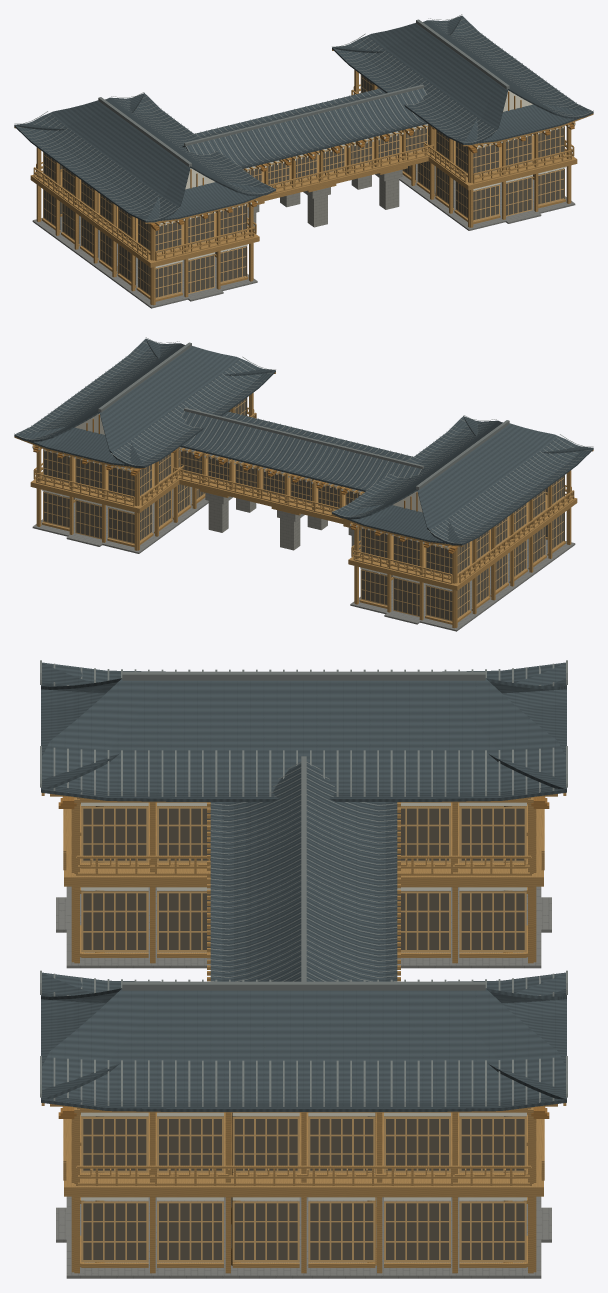
3 renders of one model, top to bottom at view 1: azimuth 30°, elevation 25°; view 2: azimuth 150°, elevation 25°; view 3: azimuth 270°, elevation 25°, orthographic. The views are drawn at different scales.
Parts seen in each view (by area): view 1: gate__roof, gate__doors, gate__rooftile, gate__lattice, gate__structure, gate__gallery, gate__railing, gate__base, gate__piers, gate__brackets, gate__gable-infill, gate__rafters (+2 smaller); view 2: gate__roof, gate__doors, gate__rooftile, gate__lattice, gate__structure, gate__gallery, gate__railing, gate__base, gate__piers, gate__brackets, gate__gable-infill, gate__rafters (+2 smaller); view 3: gate__roof, gate__doors, gate__lattice, gate__rooftile, gate__structure, gate__gallery, gate__base, gate__railing, gate__plaster, gate__rafters, gate__brackets.
Boxes of the visible parts, x1,y1,x2,y2 form: gate__roof: (14,15,593,222); gate__doors: (43,75,564,297); gate__rooftile: (14,14,593,220); gate__lattice: (43,74,564,298); gate__structure: (36,70,571,305); gate__gallery: (30,130,577,267); gate__railing: (33,84,574,260); gate__base: (32,164,575,308); gate__piers: (247,169,402,230); gate__brackets: (150,122,575,230); gate__gable-infill: (185,90,532,189); gate__rafters: (155,122,575,226); gate__roof: (14,338,593,545); gate__doors: (43,398,564,620); gate__rooftile: (14,337,593,543); gate__lattice: (43,397,564,621); gate__structure: (36,393,571,628); gate__gallery: (30,453,577,590); gate__railing: (33,407,574,583); gate__base: (32,487,575,631); gate__piers: (205,492,360,553); gate__brackets: (32,445,457,553); gate__gable-infill: (75,413,422,512); gate__rafters: (32,445,452,549); gate__roof: (41,662,566,1111); gate__doors: (81,806,526,1259); gate__lattice: (81,807,526,1261); gate__rooftile: (40,660,567,1106); gate__structure: (71,797,536,1273); gate__gallery: (64,802,543,1196); gate__base: (66,886,541,1278); gate__railing: (63,809,544,1185); gate__plaster: (81,802,526,1200); gate__rafters: (50,794,557,1106); gate__brackets: (58,796,549,1118).
Bounding box in the file's own units: 48.82 × 12.66 × 24.88.
9 materials, 5 textured.
